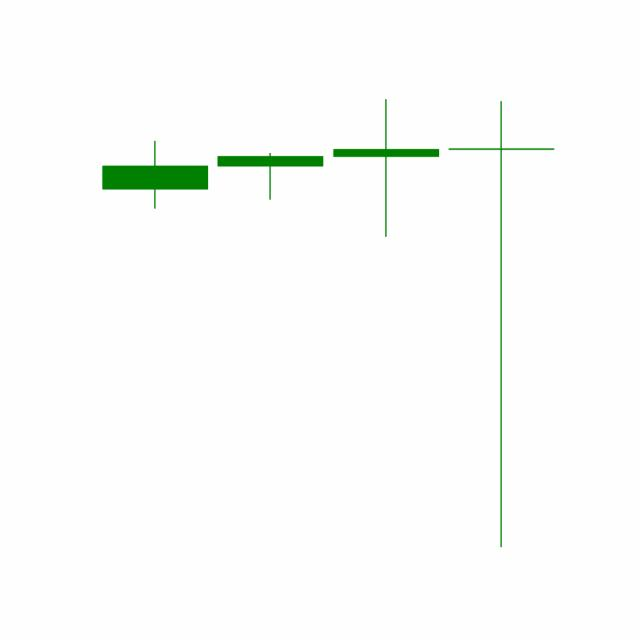Spinning Top: (443, 95, 559, 552)
